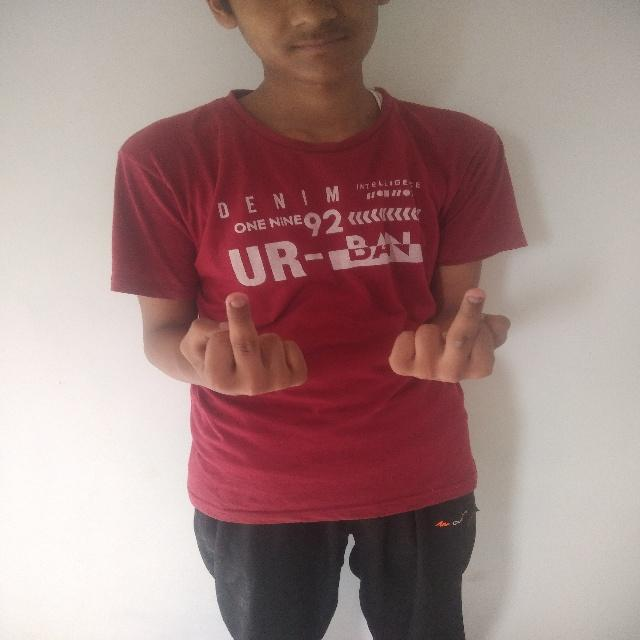Middle Finger: (173, 287, 321, 409), (385, 285, 522, 400)
